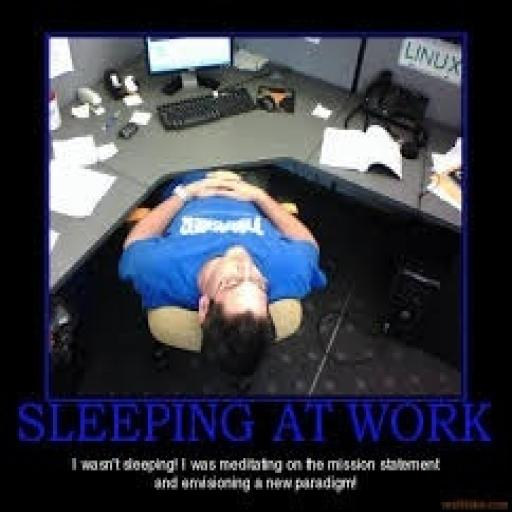sleeping: (116, 167, 330, 377)
